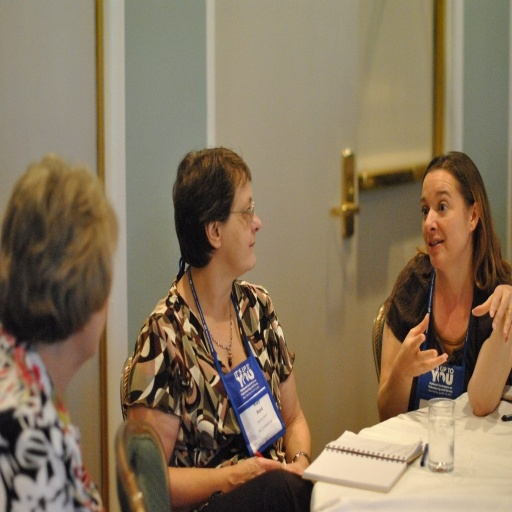hand: (401, 322, 447, 397), (470, 282, 511, 345), (224, 453, 288, 490), (283, 461, 304, 474)
